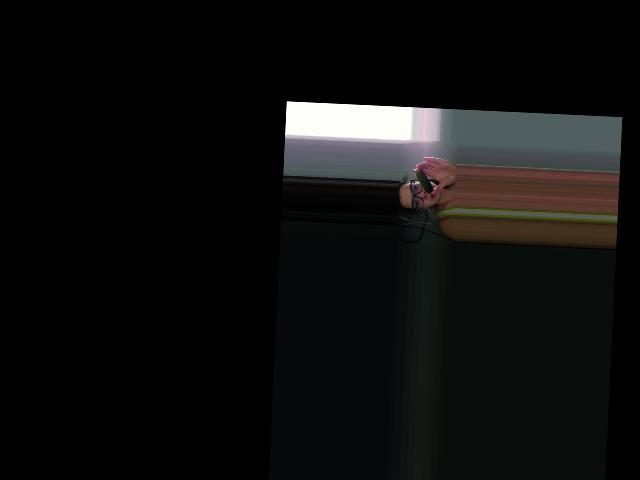cucumber: (414, 170, 434, 193)
